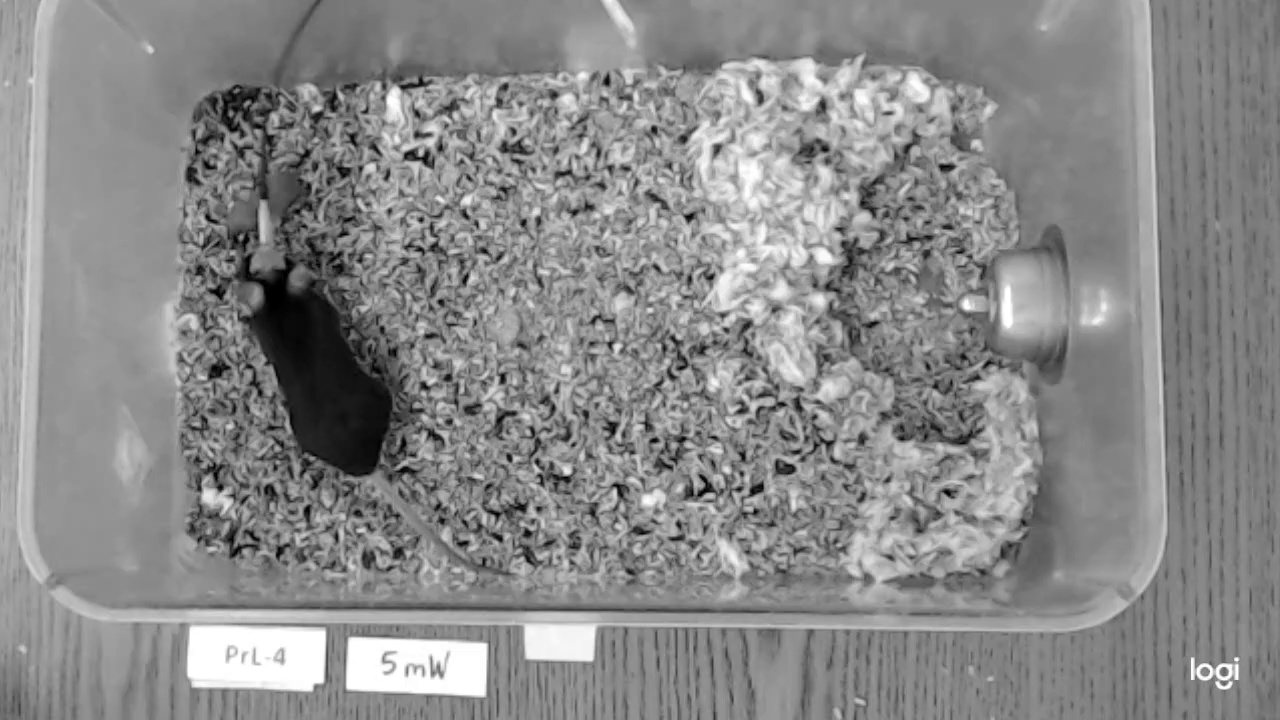parent-mice: (239, 251, 393, 476)
